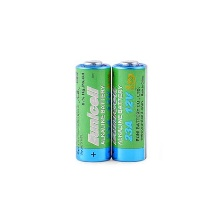battery: (71, 56, 112, 164), (110, 57, 148, 162)
